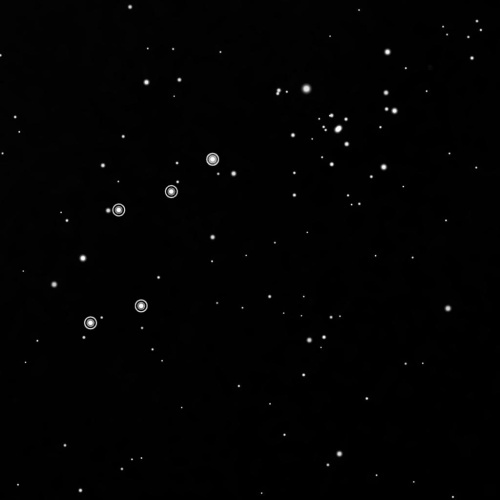lyra: (81, 148, 220, 334)
